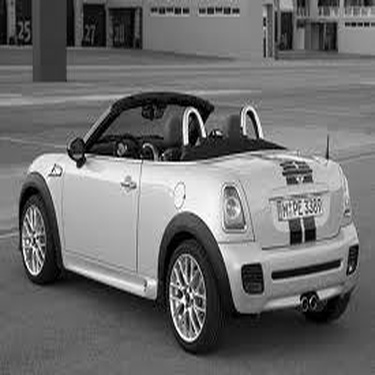car: (15, 75, 366, 363)
